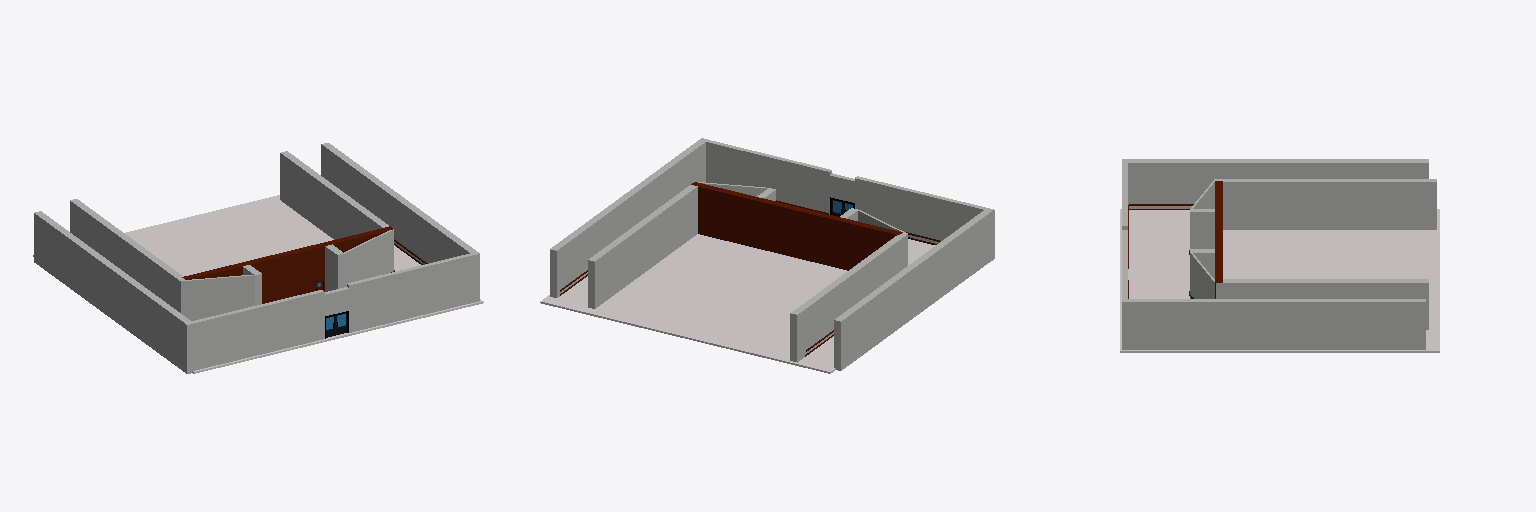
3 views of the same model, side by side, from view 1: azimuth 30°, elevation 25°; view 2: azimuth 150°, elevation 25°; view 3: azimuth 270°, elevation 25° (orthographic).
Visible parts, largest first — view 1: Part45, Part59, Part25, Part22, Part30, Part24, Part66, Union1, Part40, Part18, Part35, Part39; view 2: Part45, Union1, Part59, Part22, Part24, Part66, Part25, Part30, Part18; view 3: Part45, Part22, Part66, Part59, Part24, Part44, Part35, Union1.
Part boxes in pixels (bbox=[...]): Part45: bbox=[33, 195, 483, 373]; Part59: bbox=[34, 211, 190, 371]; Part25: bbox=[184, 290, 324, 373]; Part22: bbox=[321, 143, 479, 302]; Part30: bbox=[347, 253, 474, 332]; Part24: bbox=[280, 151, 388, 239]; Part66: bbox=[70, 199, 184, 312]; Union1: bbox=[182, 226, 392, 303]; Part40: bbox=[180, 275, 254, 320]; Part18: bbox=[270, 273, 412, 329]; Part35: bbox=[344, 229, 393, 286]; Part39: bbox=[325, 244, 344, 291]; Part45: bbox=[540, 234, 935, 373]; Union1: bbox=[691, 182, 902, 270]; Part59: bbox=[834, 209, 991, 370]; Part22: bbox=[550, 138, 707, 297]; Part24: bbox=[588, 185, 697, 308]; Part66: bbox=[790, 233, 907, 362]; Part25: bbox=[855, 176, 994, 260]; Part30: bbox=[706, 140, 831, 214]; Part18: bbox=[766, 160, 902, 214]; Part45: bbox=[1120, 209, 1439, 352]; Part22: bbox=[1122, 299, 1425, 349]; Part66: bbox=[1215, 179, 1436, 229]; Part59: bbox=[1128, 159, 1428, 208]; Part24: bbox=[1216, 279, 1428, 329]; Part44: bbox=[1190, 209, 1214, 248]; Part35: bbox=[1190, 253, 1214, 298]; Union1: bbox=[1215, 181, 1222, 298].
Bounding box in the file's own units: 153 × 24.43 × 144.